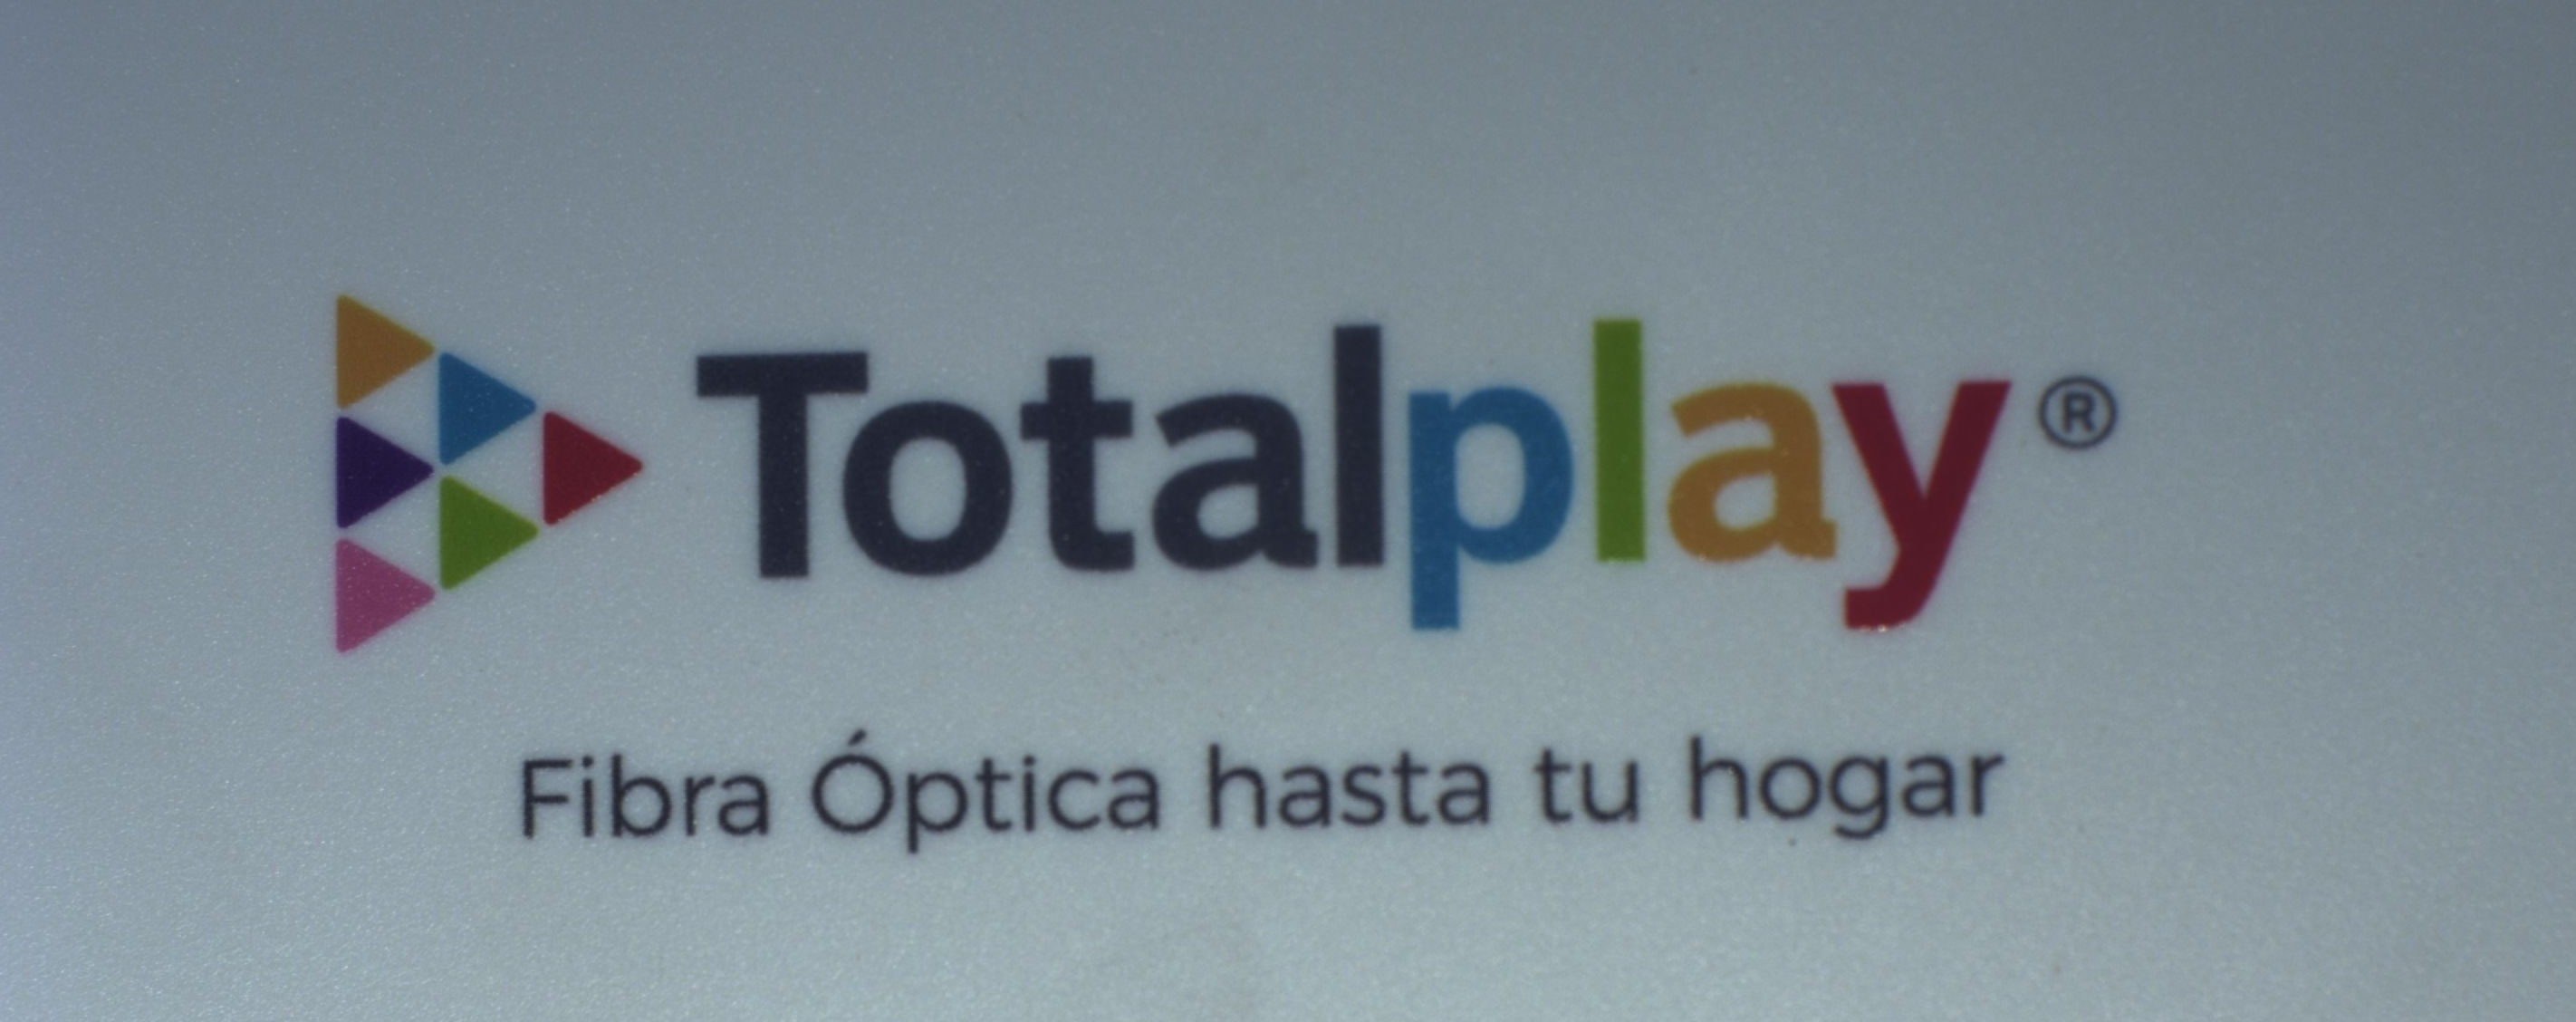BP_TotalPlay: (304, 266, 2134, 861)
